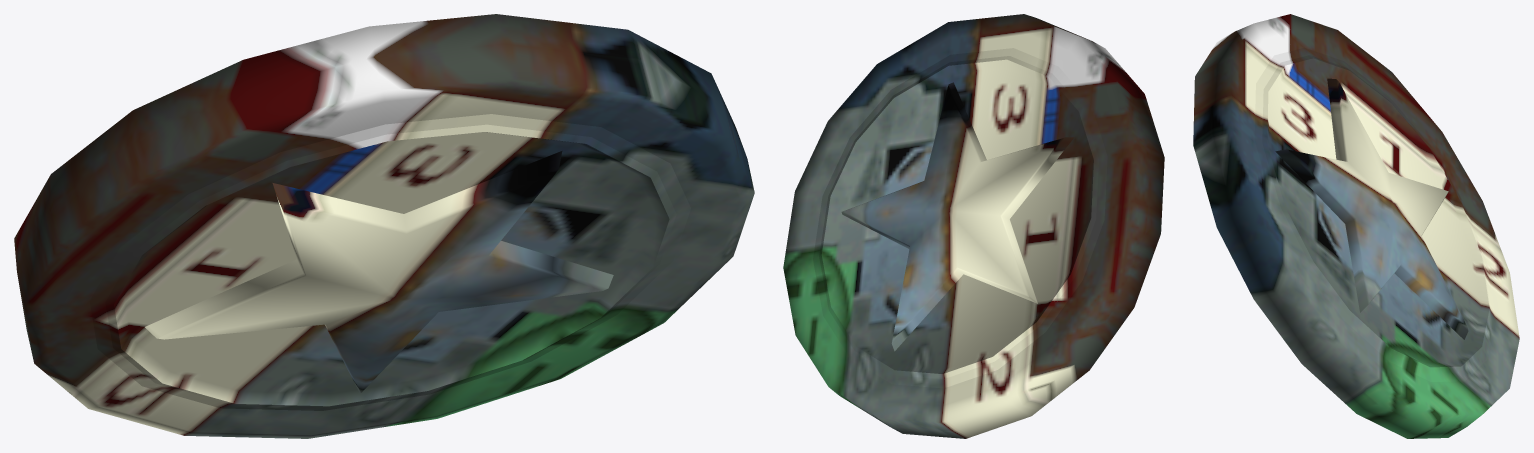
The model's file is ucp.ico.obj.
3 views of the same model, side by side, from view 1: azimuth 30°, elevation 25°; view 2: azimuth 150°, elevation 25°; view 3: azimuth 270°, elevation 25° (orthographic). The views are drawn at different scales.
Bounding box in the file's own units: 4.79 × 4.11 × 3.45.
